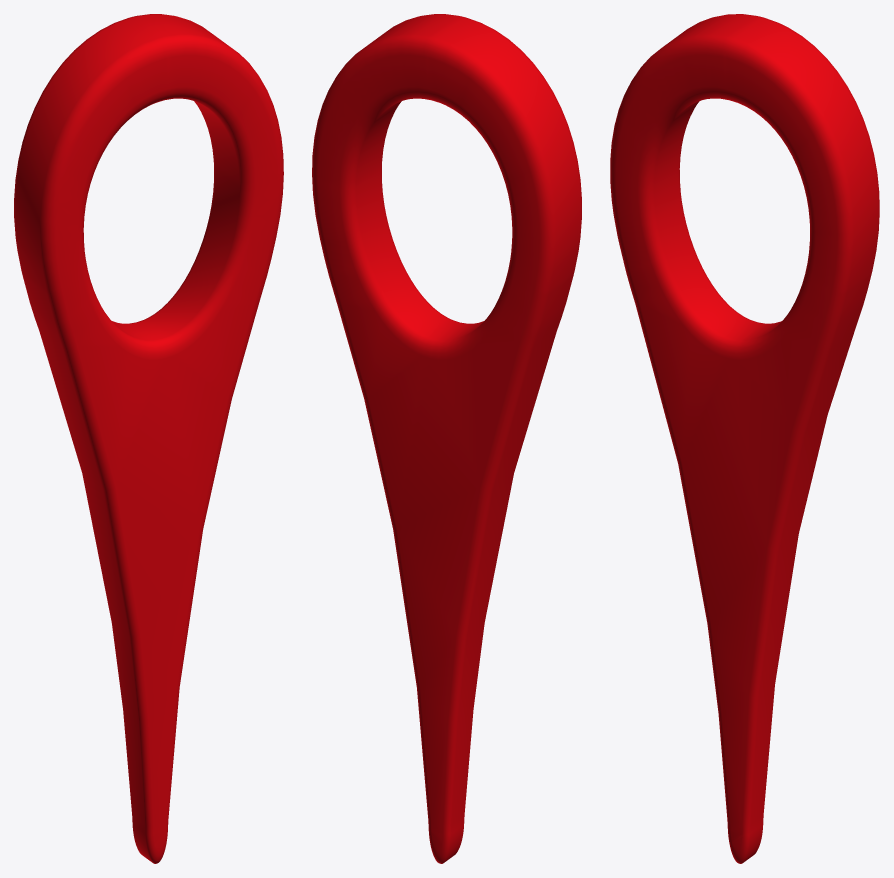
The model's file is red_beacon.gltf.
3 views of the same model, side by side, from view 1: azimuth 30°, elevation 25°; view 2: azimuth 150°, elevation 25°; view 3: azimuth 330°, elevation 25° (orthographic).
Parts seen in each view (by area): view 1: Icon.2; view 2: Icon.2; view 3: Icon.2.
Boxes of the visible parts, x1,y1,x2,y2 form: Icon.2: (14, 14, 283, 863); Icon.2: (312, 14, 581, 863); Icon.2: (610, 14, 879, 863).
Bounding box in the file's own units: 0.1593 × 0.5226 × 0.0453.
